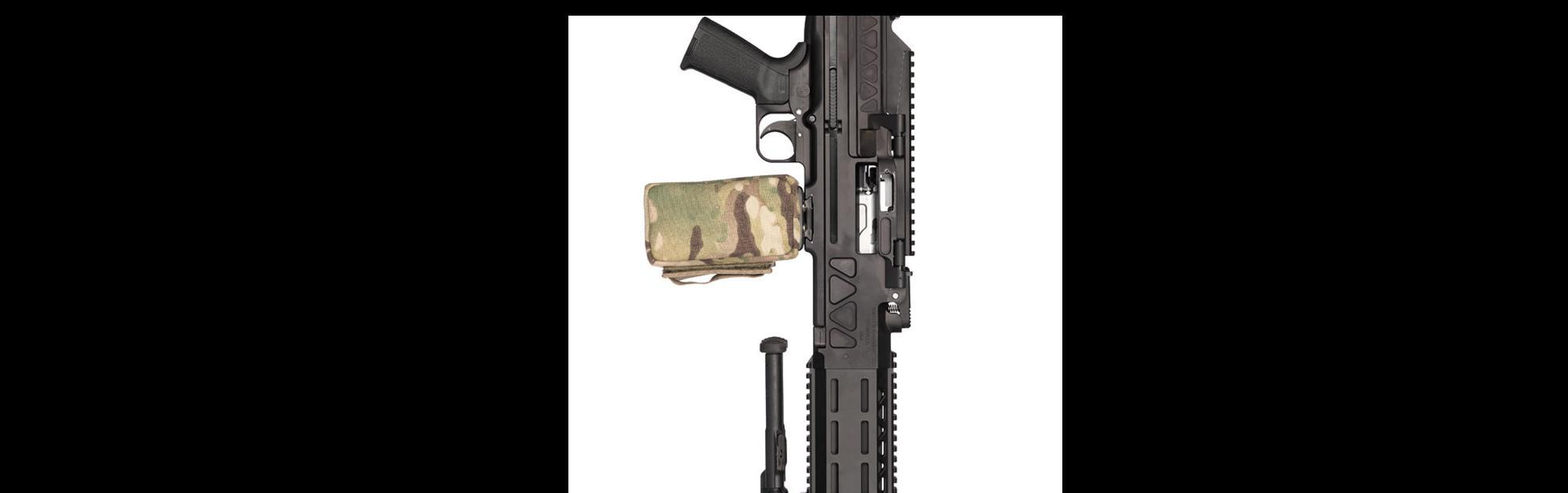larga: (642, 16, 917, 493)
